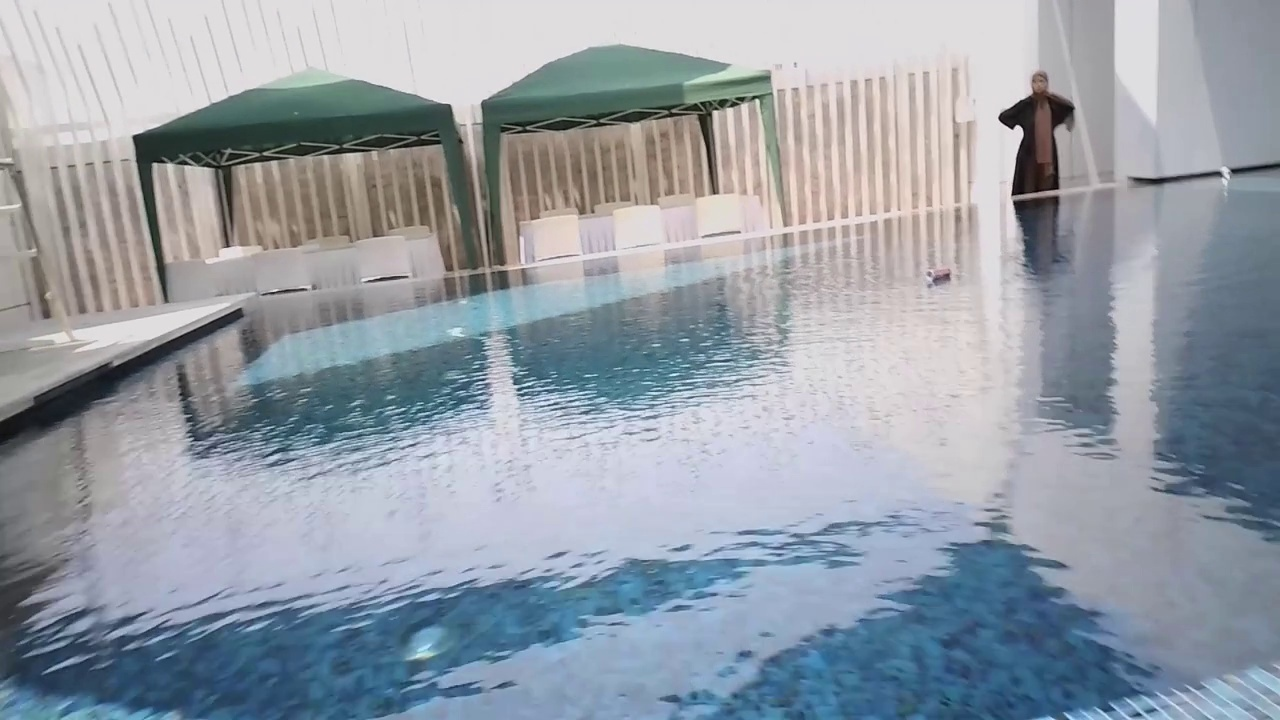debris: (922, 263, 952, 286), (1216, 163, 1232, 179)
